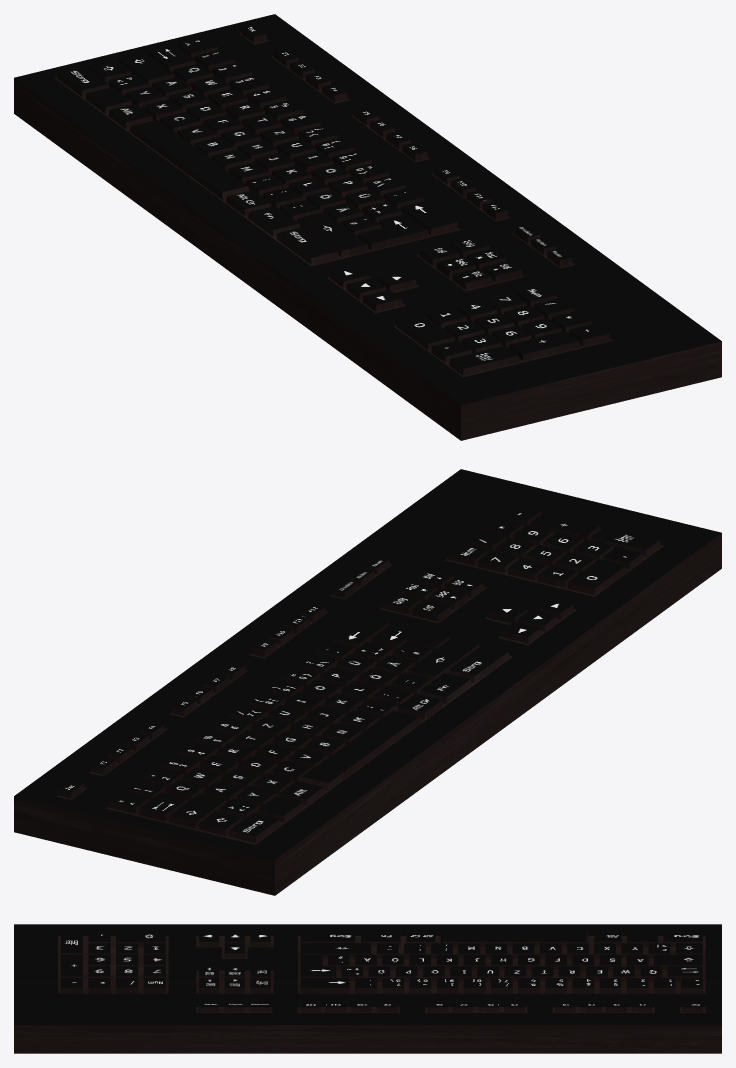
Rendered from tastatur.fbx.
3 renders of one model, top to bottom at view 1: azimuth 30°, elevation 25°; view 2: azimuth 150°, elevation 25°; view 3: azimuth 270°, elevation 25°, orthographic. The views are drawn at different scales.
Parts seen in each view (by area): view 1: Cube; view 2: Cube; view 3: Cube.
Part boxes in pixels (x1,y1,x2,y2): Cube: [14, 14, 721, 440]; Cube: [14, 469, 721, 895]; Cube: [14, 924, 721, 1053].
Size of the model in its own units: 15.17 by 2.35 by 45.
